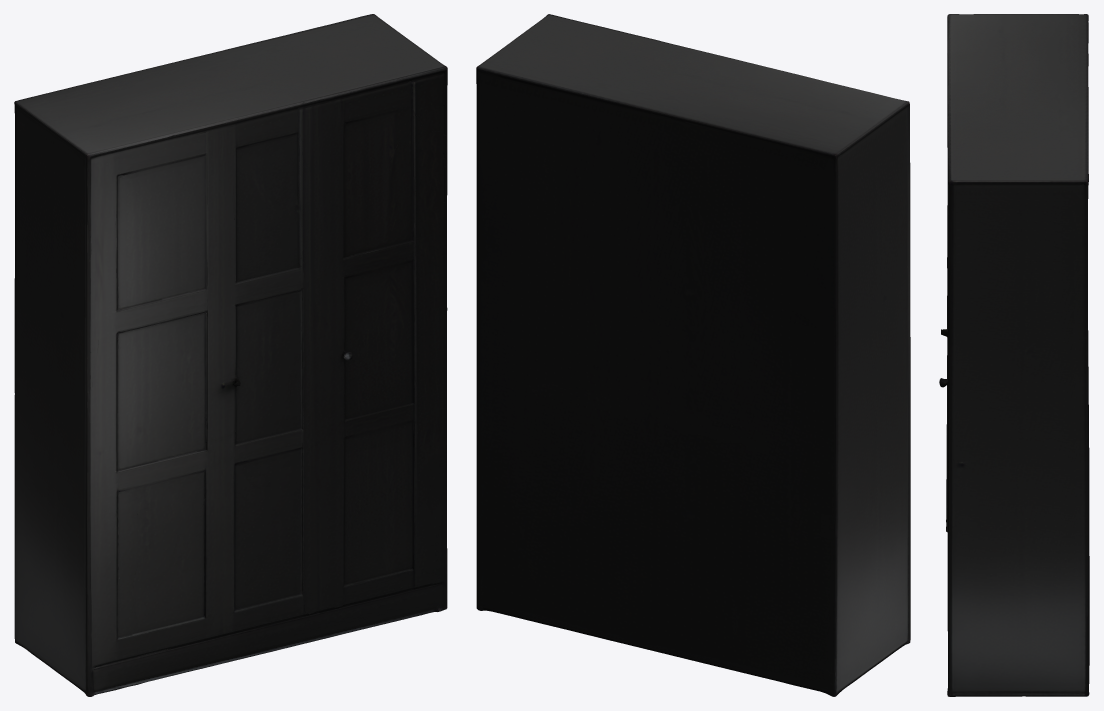
Rendered from wardrobes_19053_image_9.glb.
3 views of the same model, side by side, from view 1: azimuth 30°, elevation 25°; view 2: azimuth 150°, elevation 25°; view 3: azimuth 270°, elevation 25° (orthographic). The views are drawn at different scales.
Parts seen in each view (by area): view 1: world; view 2: world; view 3: world.
Part boxes in pixels (bbox=[...]): world: bbox=[14, 14, 447, 696]; world: bbox=[476, 14, 910, 696]; world: bbox=[939, 14, 1089, 696].
Bounding box in the file's own units: 0.6991 × 1 × 0.264.
1 material, 1 textured.
